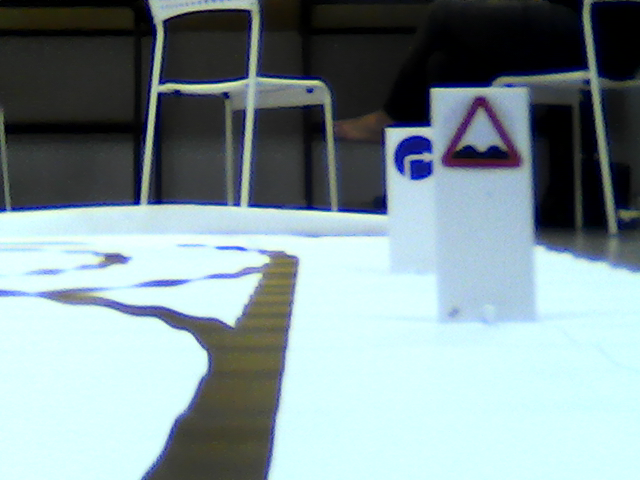Nerov: (440, 94, 523, 171)
Right: (394, 132, 432, 181)
